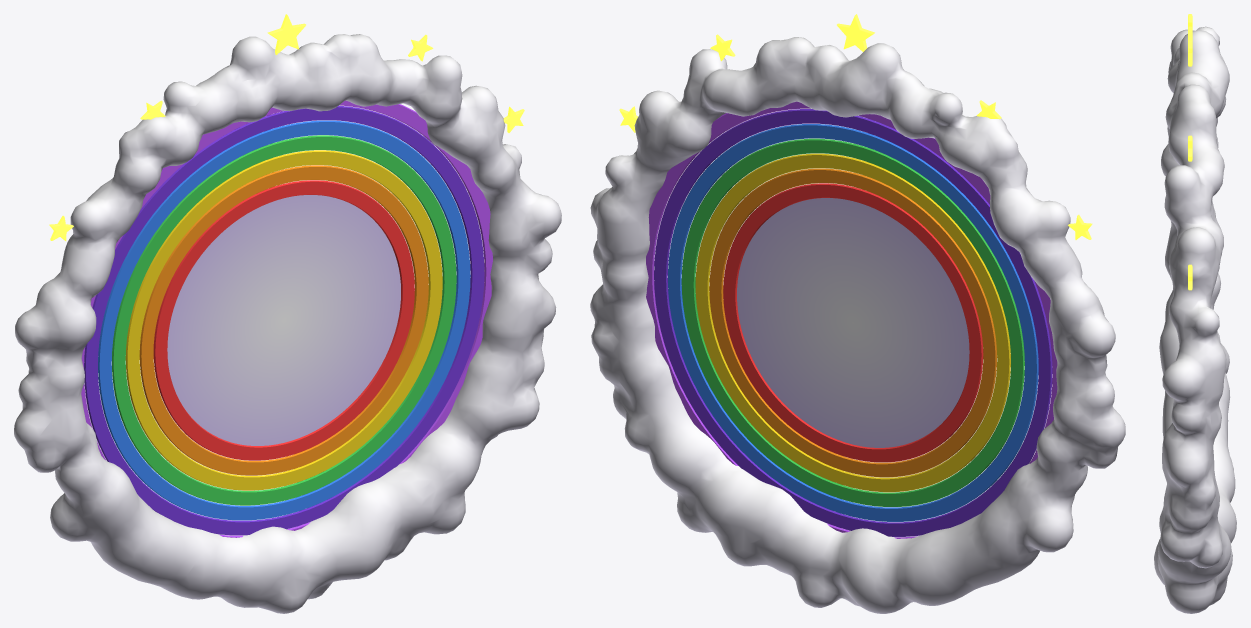
File: portal-arcoiris.glb
3 renders of one model, left to right at view 1: azimuth 30°, elevation 25°; view 2: azimuth 150°, elevation 25°; view 3: azimuth 270°, elevation 25°, orthographic. The views are drawn at different scales.
Visible parts, largest first — view 1: Aro de nube, Velo, Banda 4, Banda 5, Banda 3, Banda 2, Banda 1, Banda 0, Banda 6, stars; view 2: Aro de nube, Velo, Banda 4, Banda 5, Banda 3, Banda 2, Banda 1, Banda 0, Banda 6, stars; view 3: Aro de nube, stars.
Part boxes in pixels (<box>): Aro de nube: <box>14,34,561,613</box>; Velo: <box>167,195,400,445</box>; Banda 4: <box>98,120,470,520</box>; Banda 5: <box>84,105,484,535</box>; Banda 3: <box>112,135,456,505</box>; Banda 2: <box>125,150,442,490</box>; Banda 1: <box>139,165,428,475</box>; Banda 0: <box>153,180,414,460</box>; Banda 6: <box>81,100,492,537</box>; stars: <box>49,14,524,240</box>; Aro de nube: <box>590,37,1125,613</box>; Velo: <box>737,198,969,447</box>; Banda 4: <box>668,124,1038,521</box>; Banda 5: <box>654,109,1052,536</box>; Banda 3: <box>681,138,1024,506</box>; Banda 2: <box>695,153,1010,492</box>; Banda 1: <box>709,168,997,477</box>; Banda 0: <box>723,183,983,462</box>; Banda 6: <box>646,101,1057,538</box>; stars: <box>619,14,1092,239</box>; Aro de nube: <box>1154,26,1236,613</box>; stars: <box>1188,14,1192,290</box>.
Size of the model in its own units: 34.73 by 36.82 by 5.
